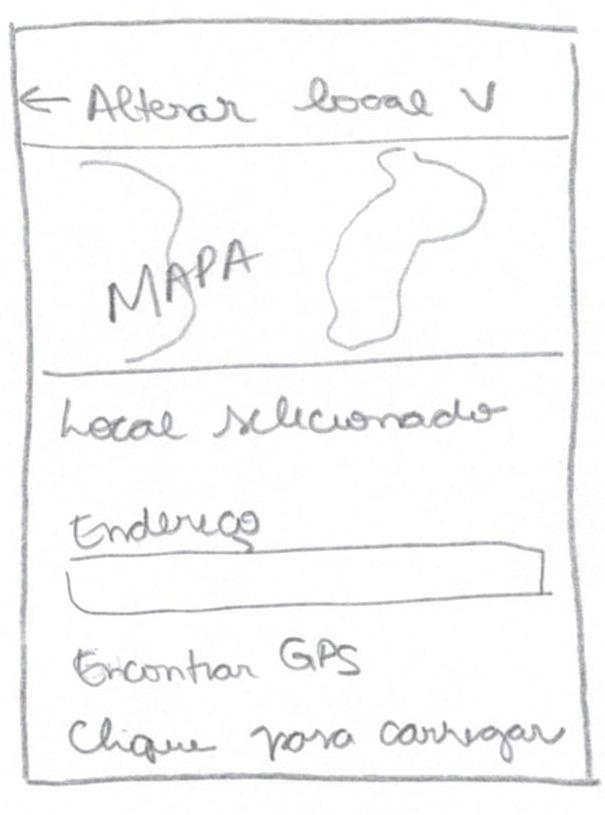Button: (19, 80, 73, 118), (458, 78, 499, 113)
Label: (69, 714, 570, 761), (58, 394, 510, 444), (85, 75, 438, 124), (69, 636, 363, 691), (71, 504, 262, 553)
Map: (21, 133, 579, 377)
Screen: (8, 19, 592, 787)
TextBox: (65, 542, 551, 616)
